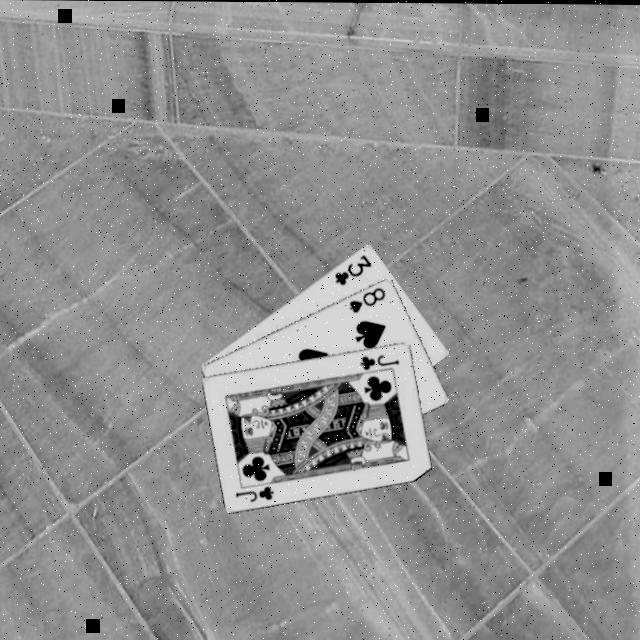3C: (330, 249, 374, 287)
8S: (345, 282, 387, 314)
JC: (356, 349, 402, 372), (232, 481, 276, 503)
